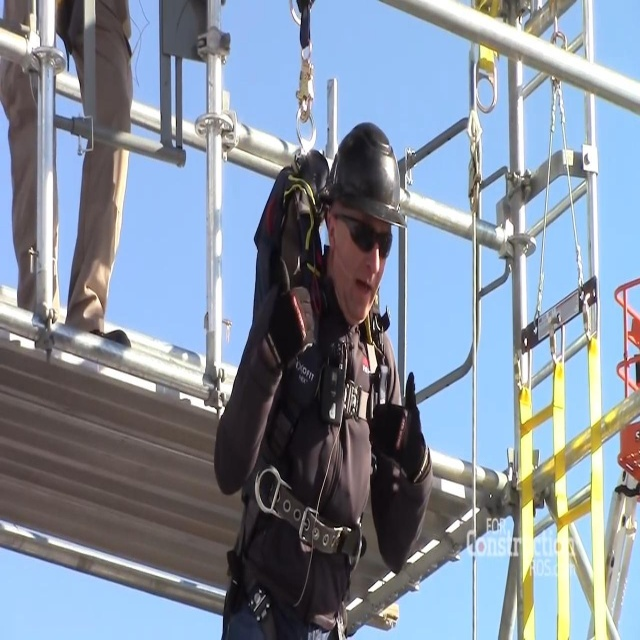Arnes_seguridad: (235, 154, 398, 640)
